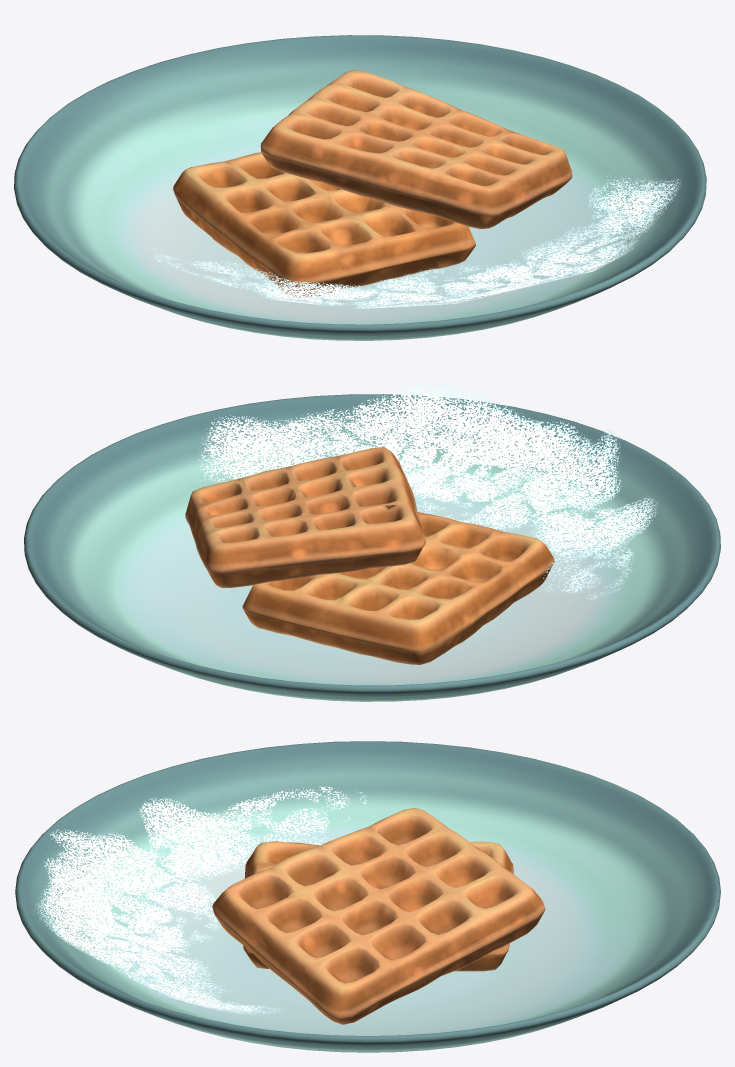
3 renders of one model, top to bottom at view 1: azimuth 30°, elevation 25°; view 2: azimuth 150°, elevation 25°; view 3: azimuth 270°, elevation 25°, orthographic.
Parts seen in each view (by area): view 1: Circle_3, waffle2_4, waffle1_0, Circle.002_9; view 2: Circle_3, Circle.002_9, waffle1_0, waffle2_4; view 3: Circle_3, waffle2_4, Circle.002_9, waffle1_0.
Part boxes in pixels (x1,y1,x2,y2): Circle_3: [14, 35, 706, 340]; waffle2_4: [260, 70, 572, 228]; waffle1_0: [173, 152, 475, 297]; Circle.002_9: [145, 174, 680, 309]; Circle_3: [24, 394, 720, 701]; Circle.002_9: [195, 379, 658, 606]; waffle1_0: [242, 512, 554, 664]; waffle2_4: [185, 447, 425, 588]; Circle_3: [15, 741, 720, 1052]; waffle2_4: [212, 808, 545, 1024]; Circle.002_9: [35, 786, 366, 1015]; waffle1_0: [243, 841, 513, 971].
Bounding box in the file's own units: 7.41 × 1.49 × 7.27.
4 materials, 4 textured.
